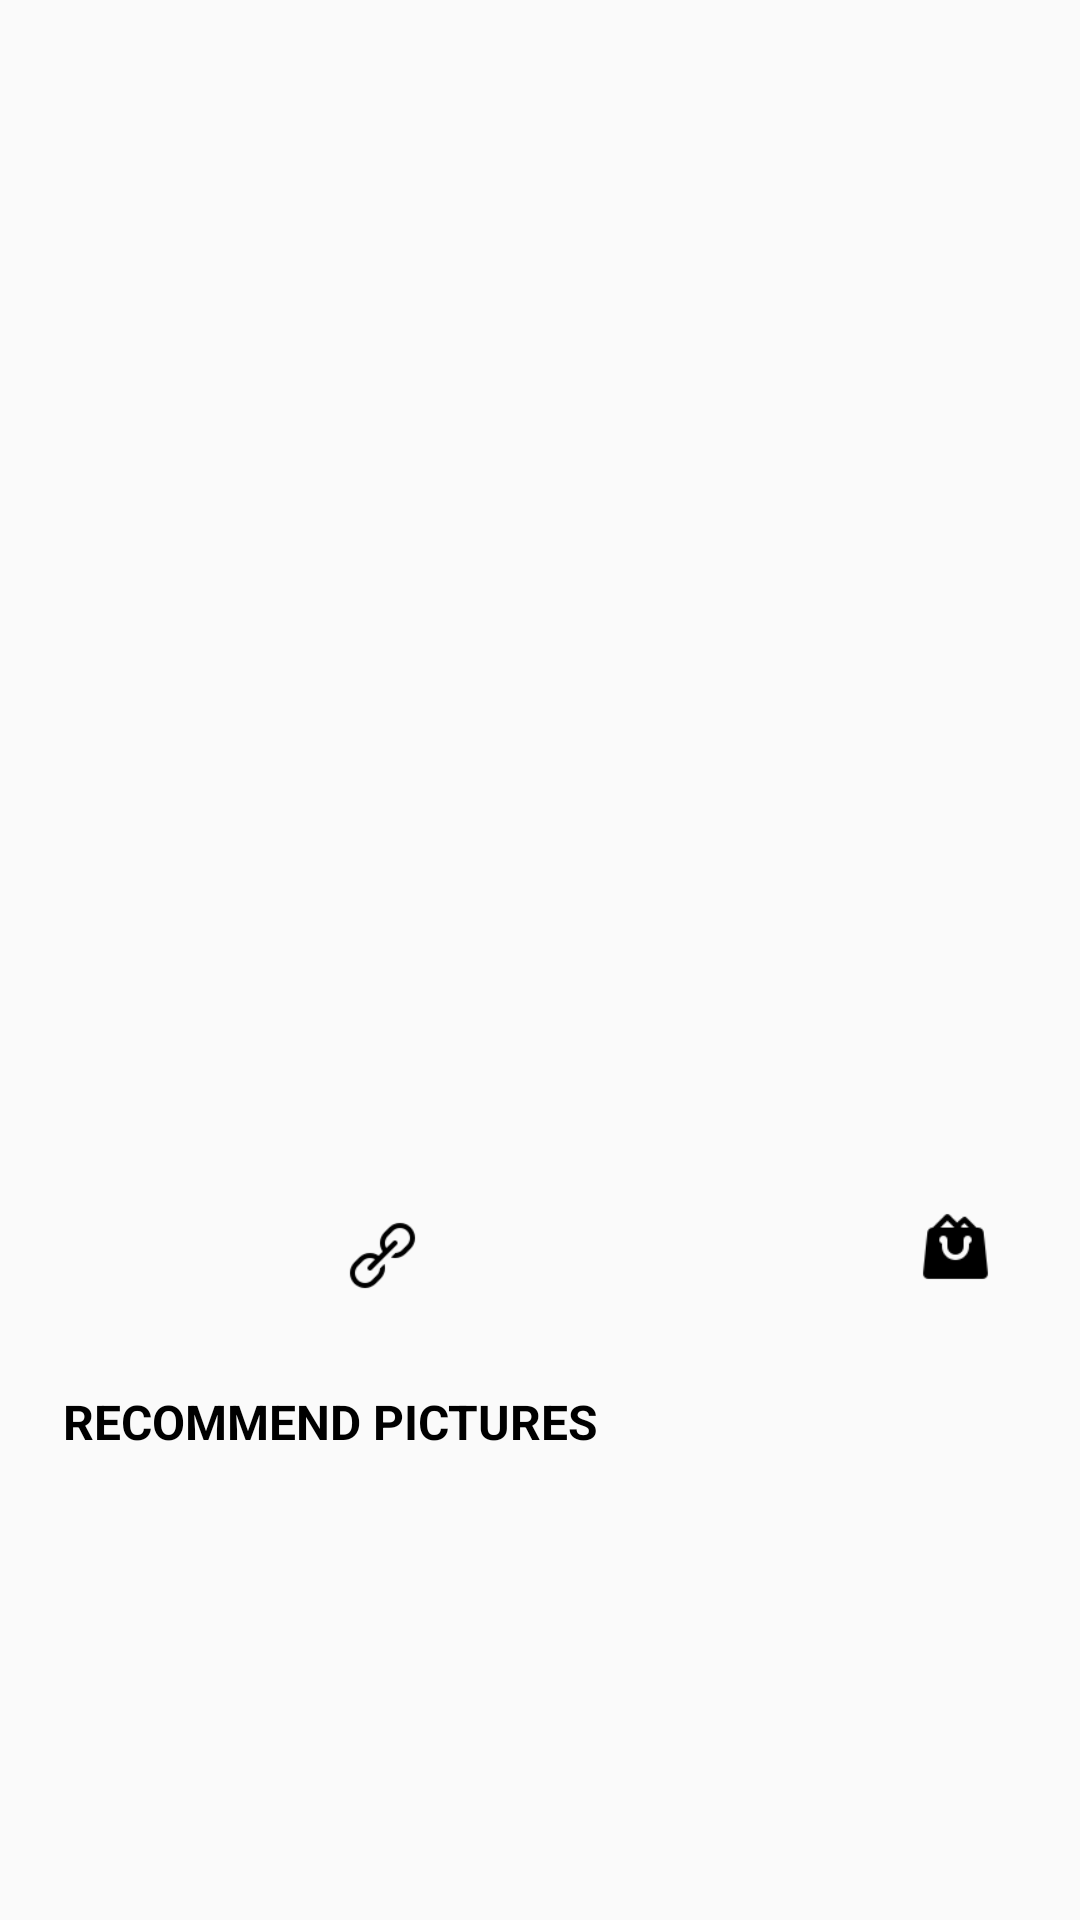

Named icons in this screenshot (1080px x 1920px) and their centers, [x,y]:
link: [382,1255]
shopping bag full: [955,1246]
